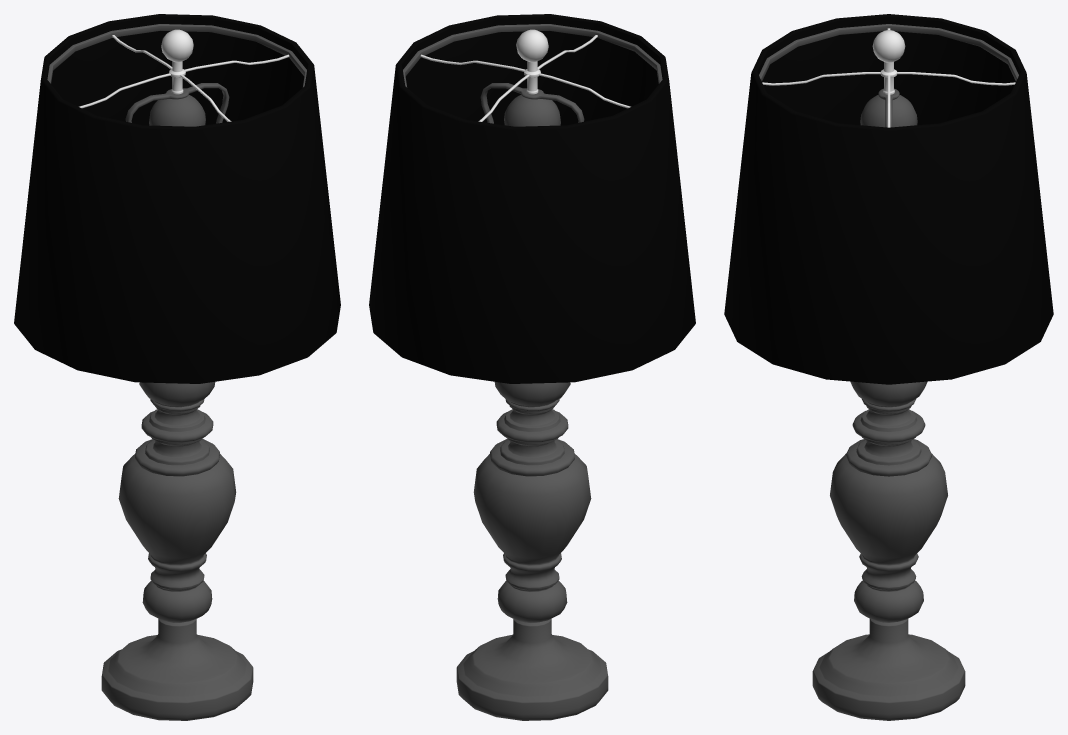
Rendered from lamp.obj.
3 views of the same model, side by side, from view 1: azimuth 30°, elevation 25°; view 2: azimuth 150°, elevation 25°; view 3: azimuth 270°, elevation 25° (orthographic).
Parts seen in each view (by area): view 1: Lamp; view 2: Lamp; view 3: Lamp.
Boxes of the visible parts, x1,y1,x2,y2 form: Lamp: (14, 14, 340, 720); Lamp: (369, 14, 695, 720); Lamp: (724, 14, 1053, 720).
Bounding box in the file's own units: 4.16 × 9.22 × 4.16.
